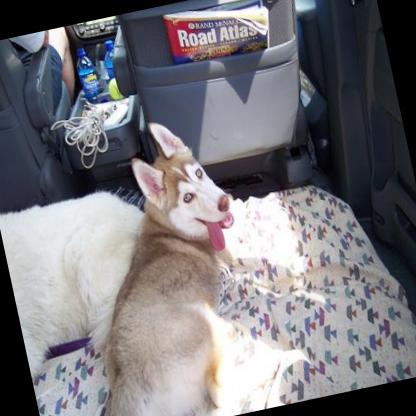Siberian_husky: (46, 106, 274, 416)
